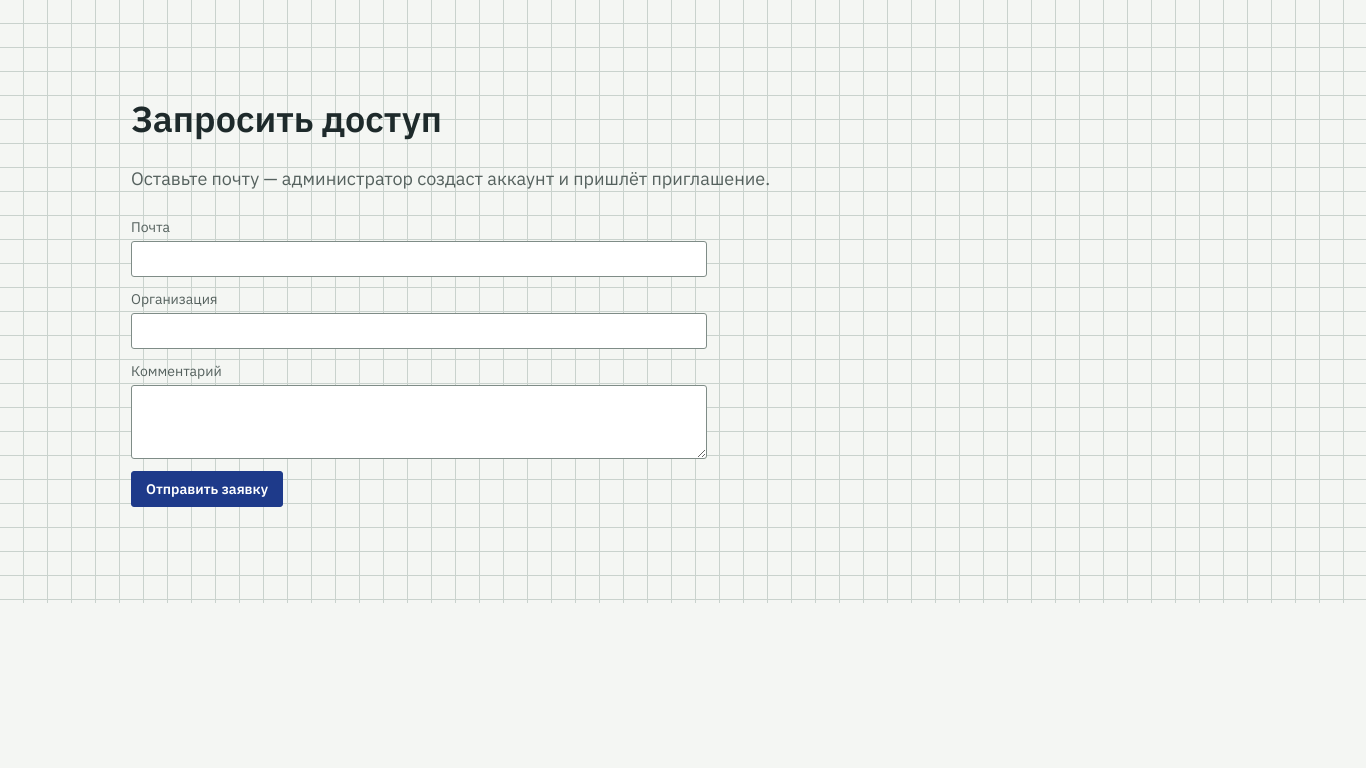
Test: access request (Review Focus 2) › sends once even on a double click and thanks the user
Type "expert@bureau.kz" into the field labelled "Почта" at (419, 259), box [131,241,707,277]
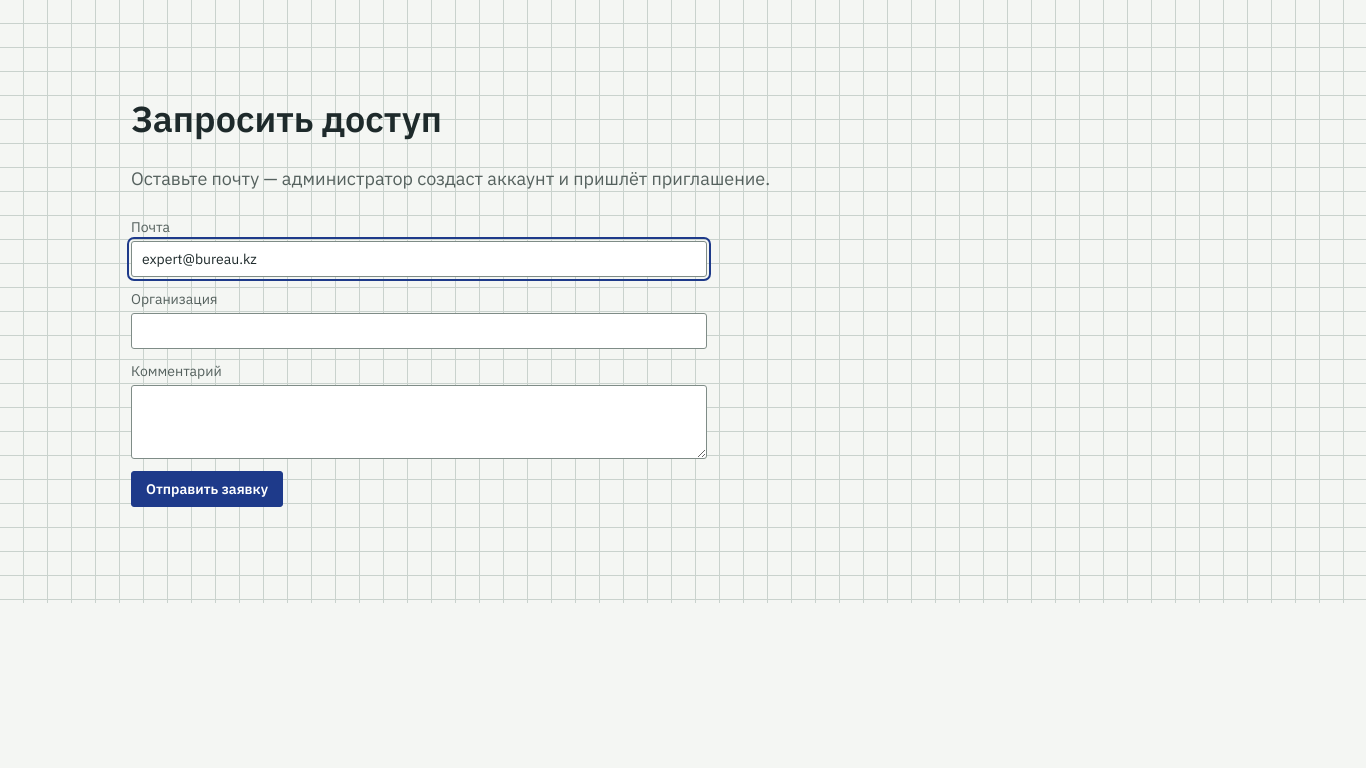
Type "ТОО «Бюро»" into the field labelled "Организация" at (419, 331), box [131,313,707,349]
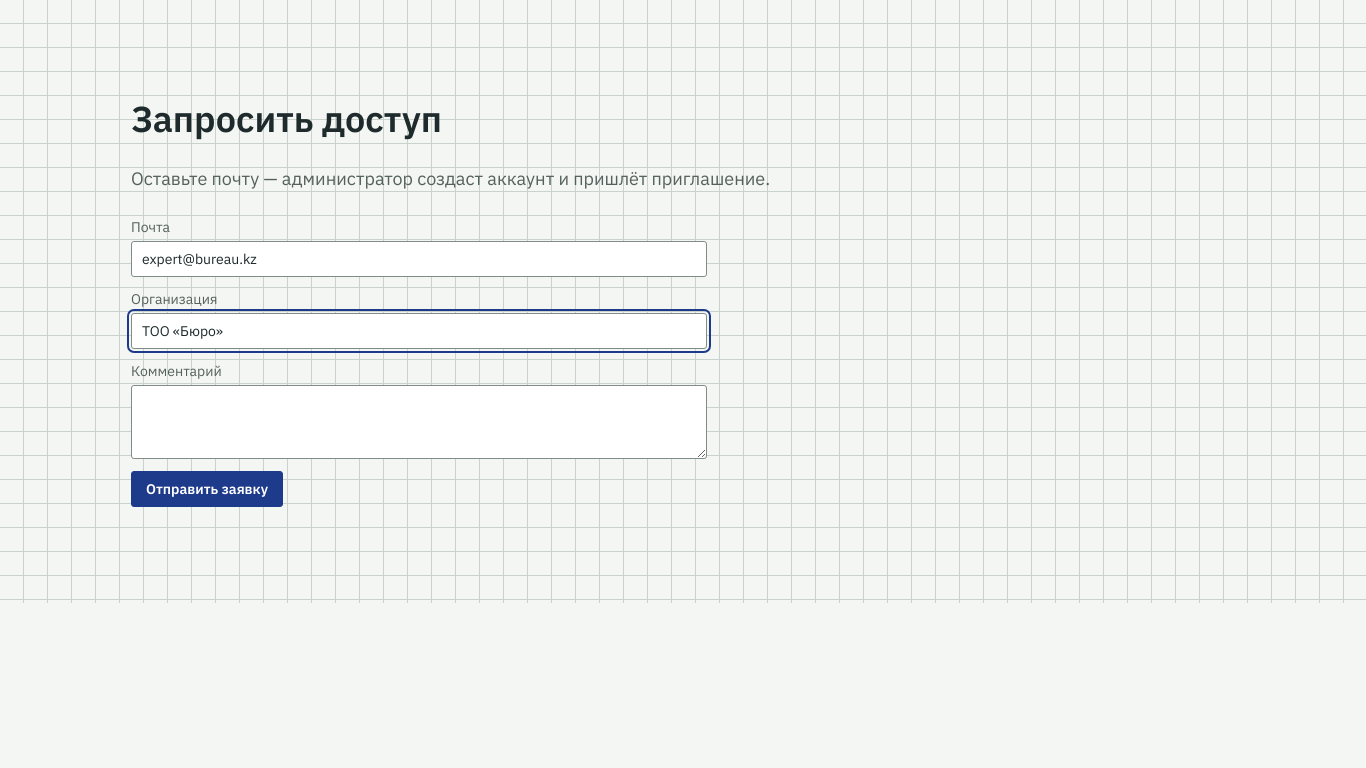
Double-click the button "Отправить заявку" at (207, 489), box [131,471,283,507]
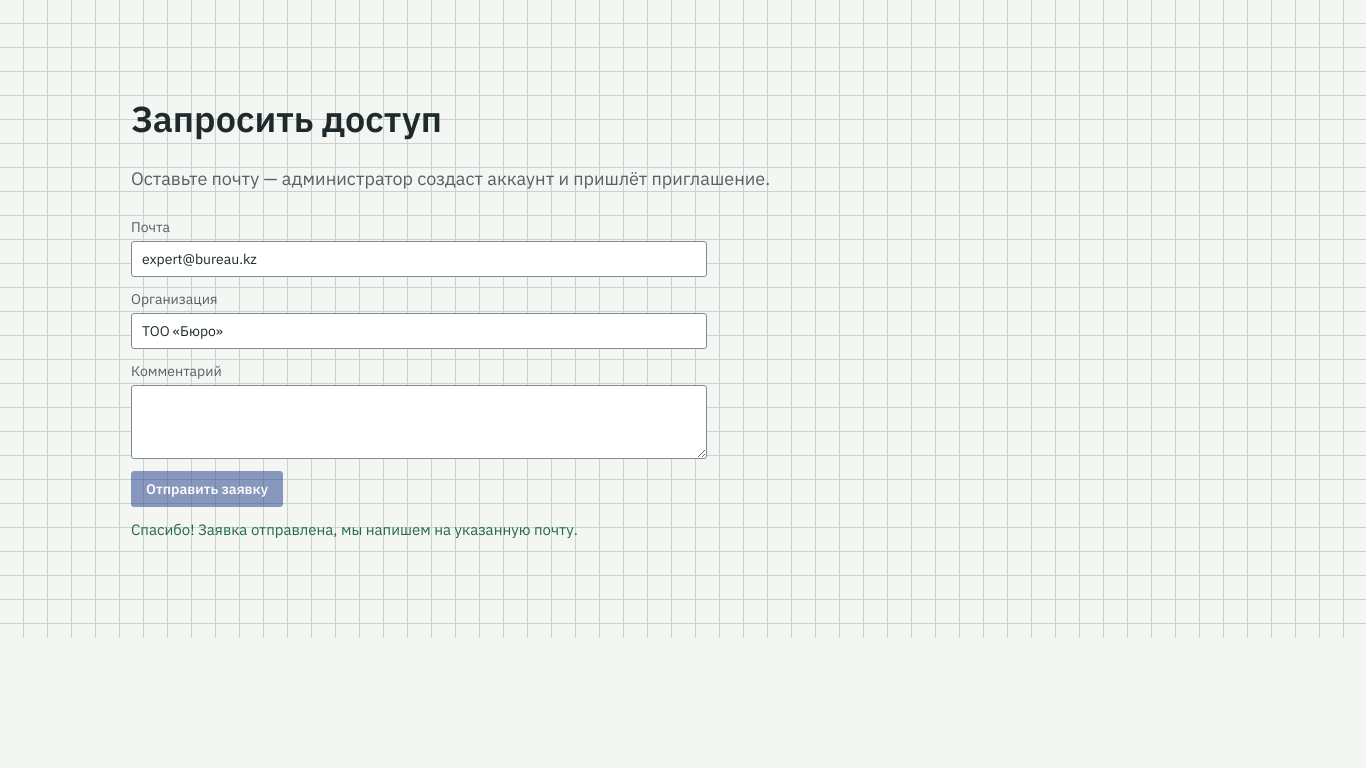
Expected: the text "Спасибо! Заявка отправлена, мы напишем на указанную почту." is shown, [131,520,578,539]
